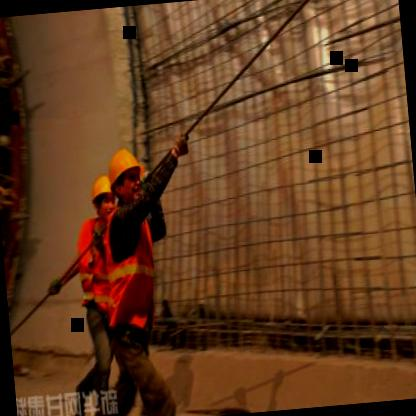helmet: (104, 142, 148, 210), (86, 173, 118, 221)
